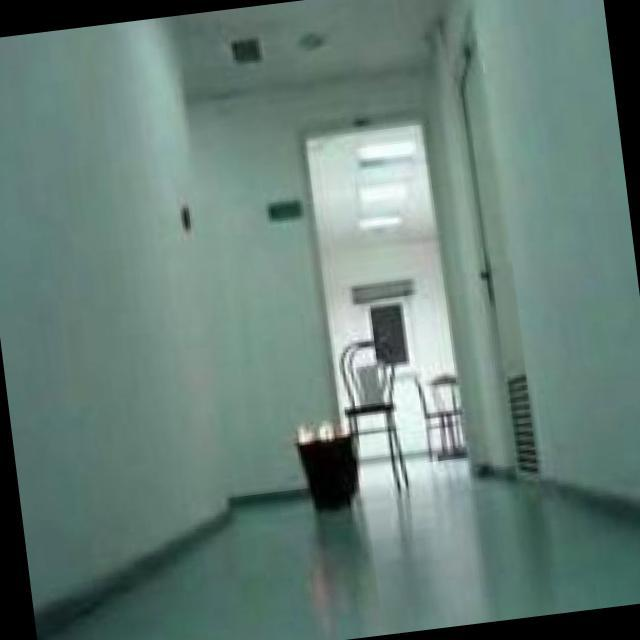Fire: (291, 418, 353, 443)
